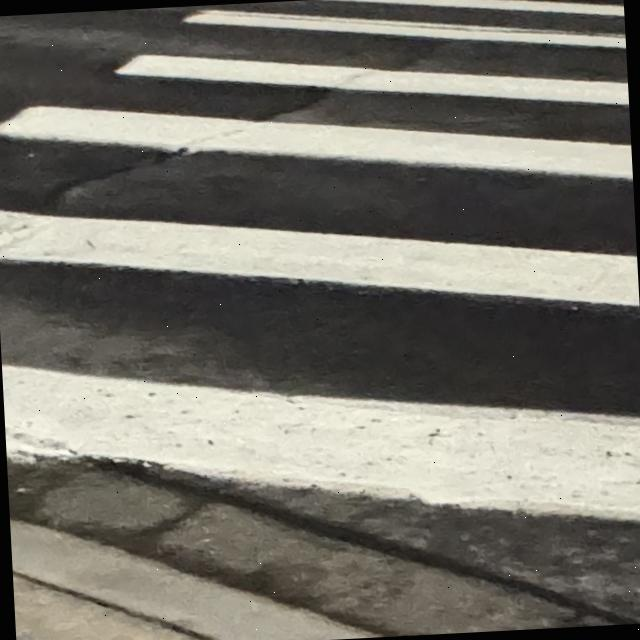curb: (12, 520, 375, 640)
